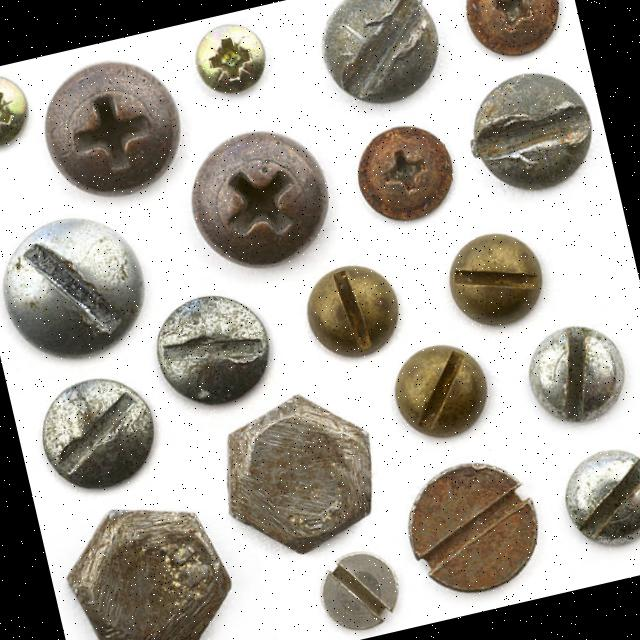Phillips: (170, 112, 350, 282), (33, 58, 192, 207), (344, 105, 468, 236), (436, 0, 584, 72)
Pozidriv: (179, 8, 282, 106), (0, 66, 43, 157)
Slotted: (380, 451, 563, 617), (0, 191, 160, 368), (451, 55, 616, 212), (10, 367, 166, 512), (297, 0, 454, 118), (149, 284, 285, 417), (387, 332, 508, 458), (287, 250, 413, 370), (436, 222, 560, 338), (522, 314, 639, 431), (547, 439, 640, 558), (305, 546, 408, 638)
